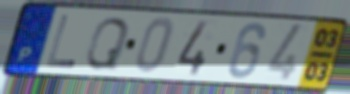0: (132, 15, 175, 76)
4: (264, 21, 305, 85), (175, 19, 209, 78)
6: (226, 21, 266, 80)
L: (44, 13, 77, 70)
Q: (82, 16, 132, 72)
